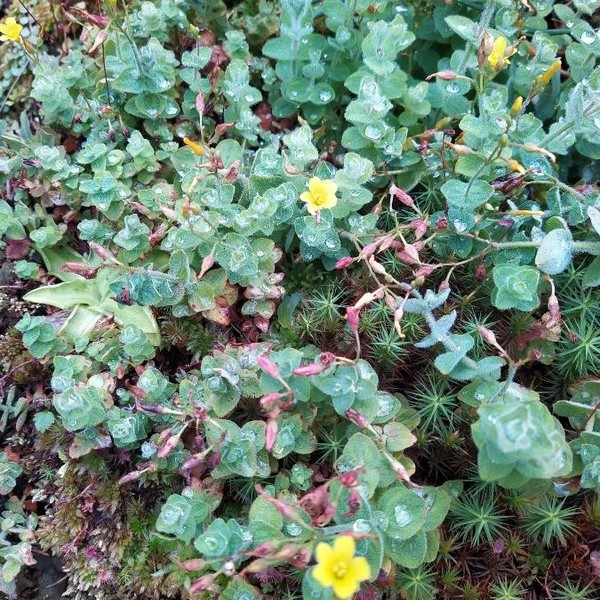obstacle: (46, 36, 386, 290), (110, 289, 409, 575), (430, 41, 557, 291)
